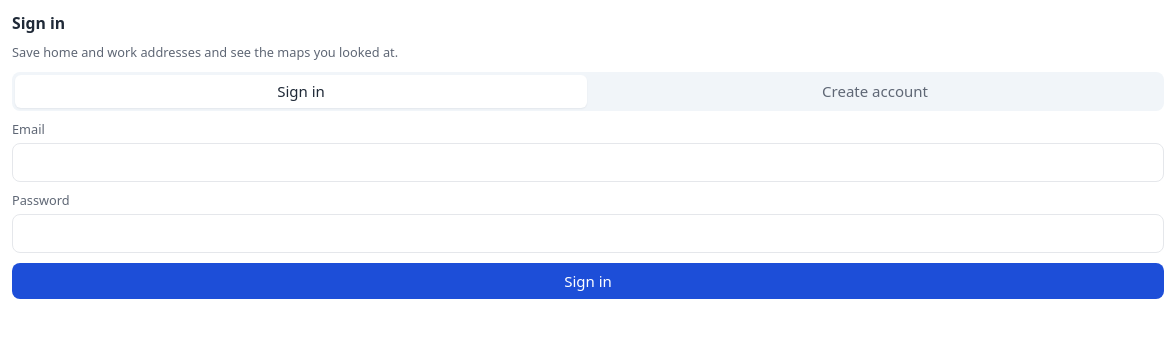
Test: sign-in and registration form › shows a refused sign-in as a form error
In the field labelled "Email": (588, 162) [12,143,1164,182], type "ann@example.com"
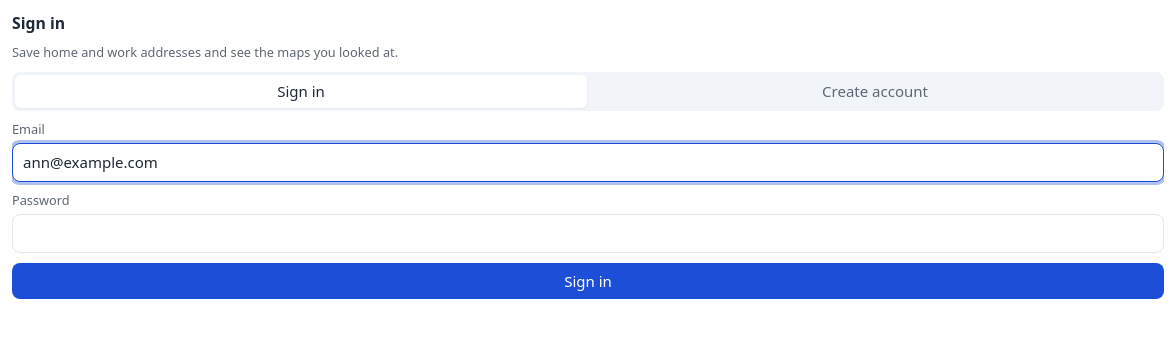
In the password field labelled "Password": (588, 233) [12,214,1164,253], type "wrong password"
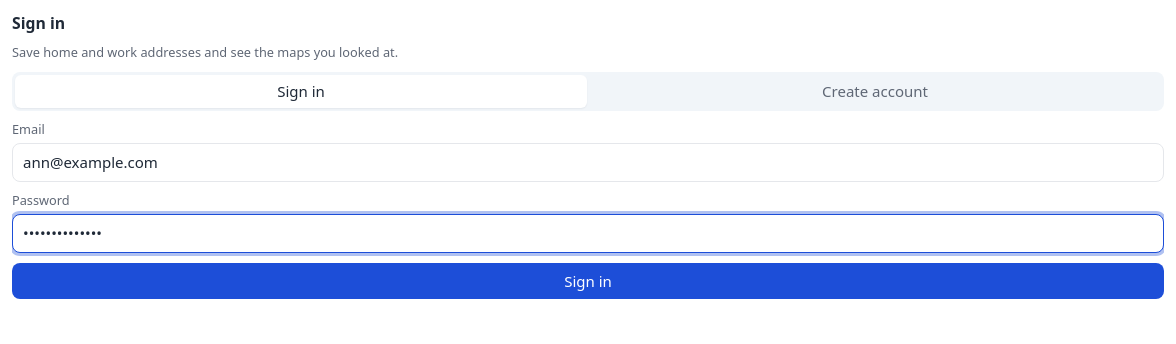
Click the button "Sign in": (588, 281) [12,263,1164,299]
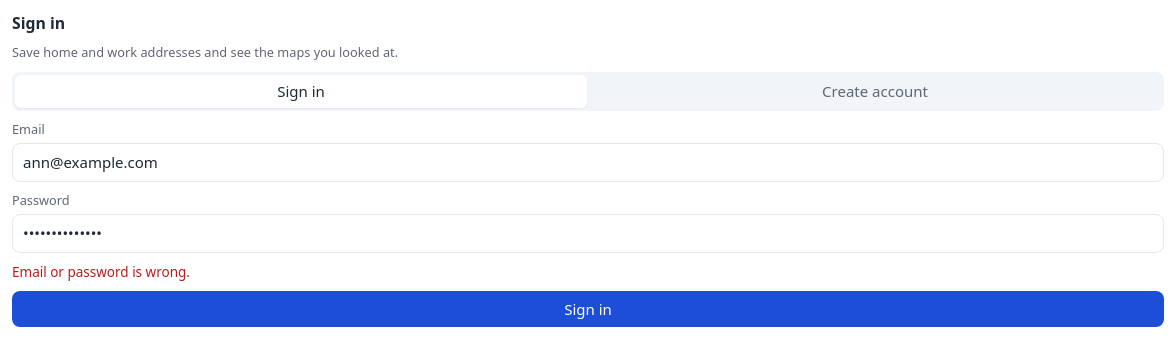
Result: the text "Email or password is wrong." is shown at [12,263,190,281]
